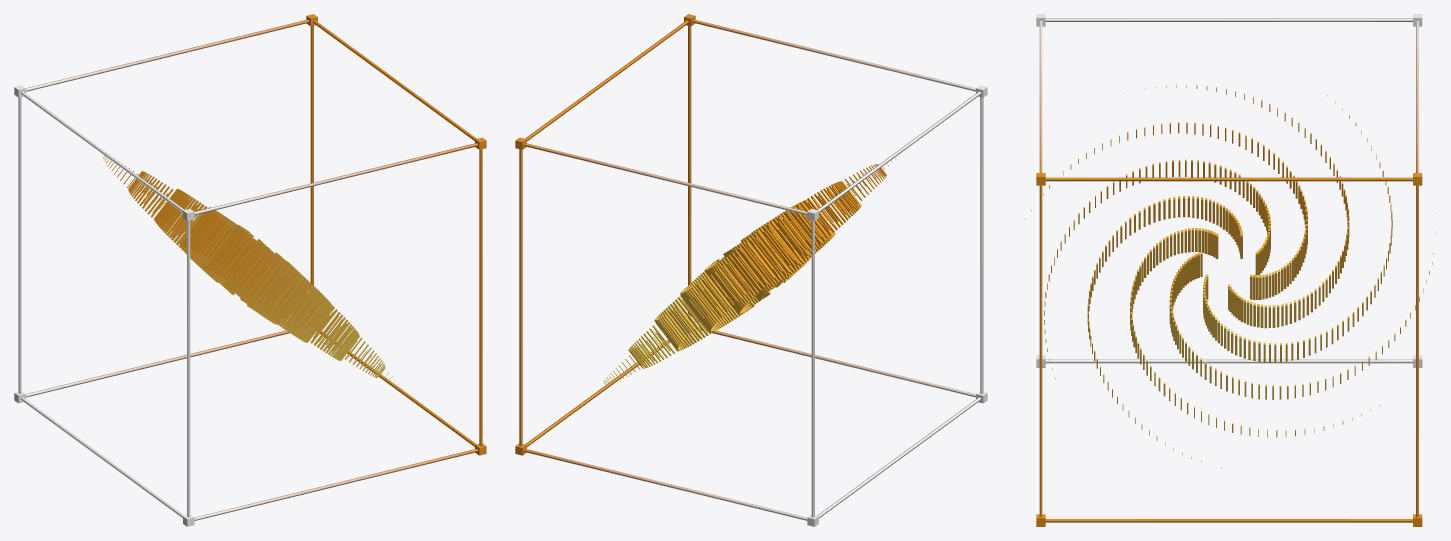
The model's file is torusInCube-gold.glb.
3 renders of one model, left to right at view 1: azimuth 30°, elevation 25°; view 2: azimuth 150°, elevation 25°; view 3: azimuth 270°, elevation 25°, orthographic. The views are drawn at different scales.
Visible parts, largest first — view 1: Torus, Cube; view 2: Torus, Cube; view 3: Torus, Cube.
Boxes of the visible parts, x1,y1,x2,y2 form: Torus: (103, 155, 395, 381); Cube: (14, 14, 486, 526); Torus: (603, 158, 895, 384); Cube: (515, 14, 987, 526); Torus: (1016, 85, 1436, 468); Cube: (1036, 14, 1422, 526).
Bounding box in the file's own units: 3.68 × 3.68 × 4.
Materials: 2 (2 with a texture image).
